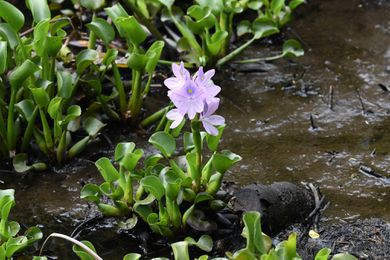water_hyacinth: (83, 55, 241, 236)
